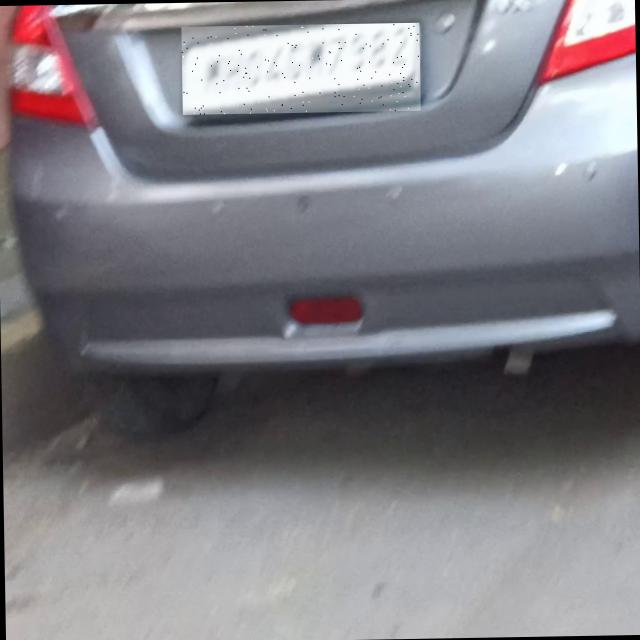Plate: (182, 24, 421, 116)
